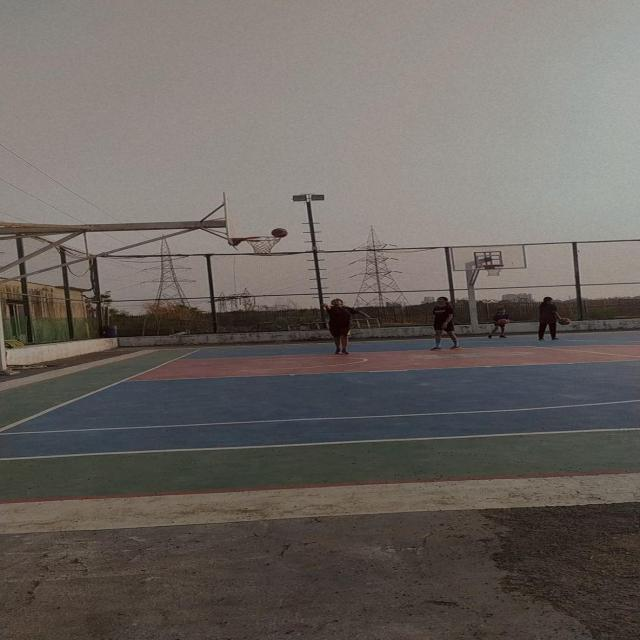hoop: (232, 204, 306, 262)
